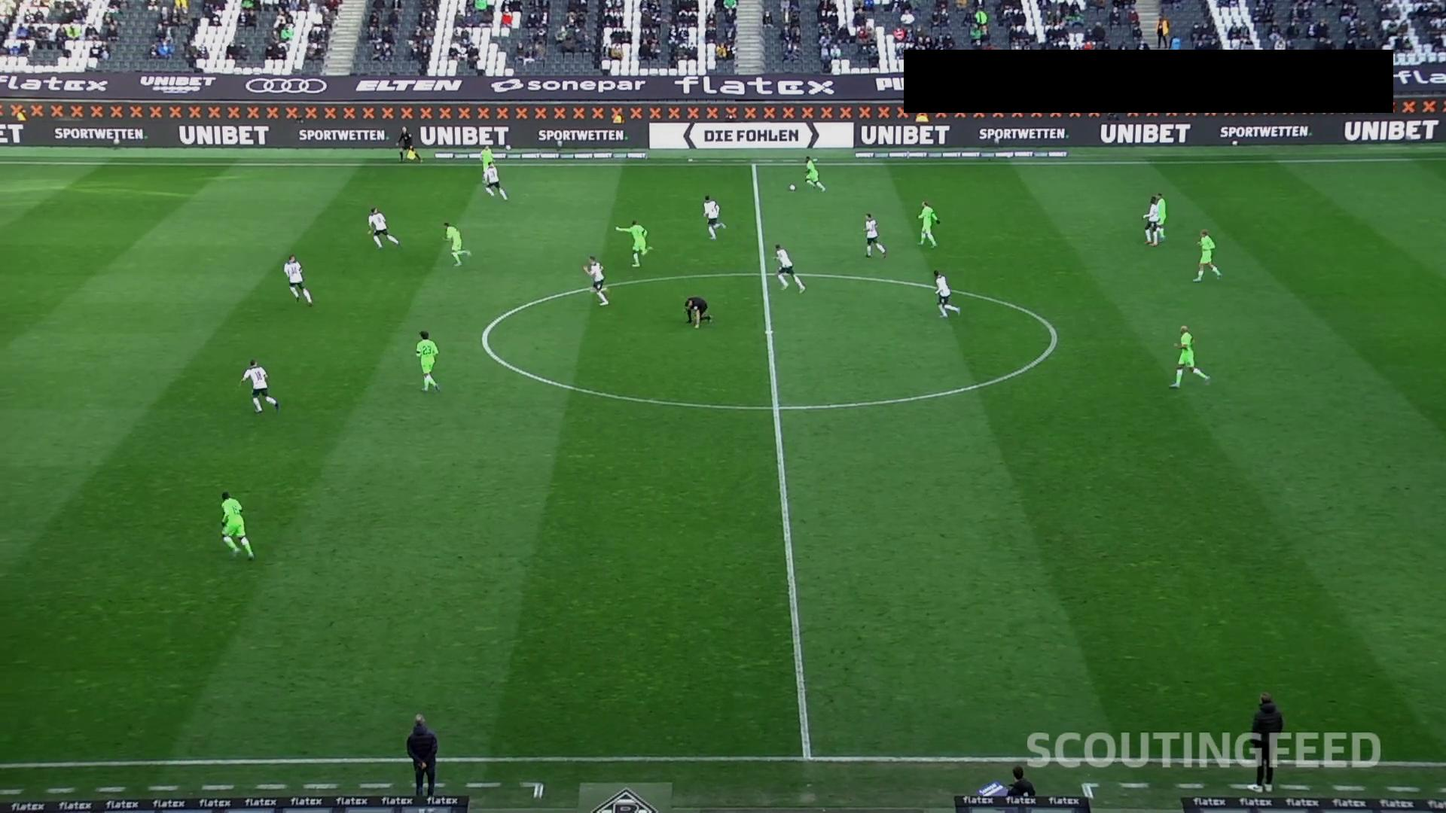ball: (789, 184, 796, 191)
player: (215, 492, 257, 563), (239, 358, 283, 417), (1169, 324, 1209, 388), (283, 253, 318, 309), (616, 220, 656, 268), (415, 330, 445, 393), (1193, 227, 1225, 286), (773, 242, 808, 295), (581, 254, 612, 307), (932, 269, 963, 321), (368, 206, 404, 249), (915, 199, 944, 251), (443, 221, 472, 269), (862, 213, 890, 261), (702, 194, 728, 239), (485, 160, 510, 202), (1143, 195, 1161, 249), (803, 157, 827, 193), (1155, 191, 1168, 243), (480, 144, 496, 184)
refree: (684, 295, 714, 328), (396, 126, 422, 163)
